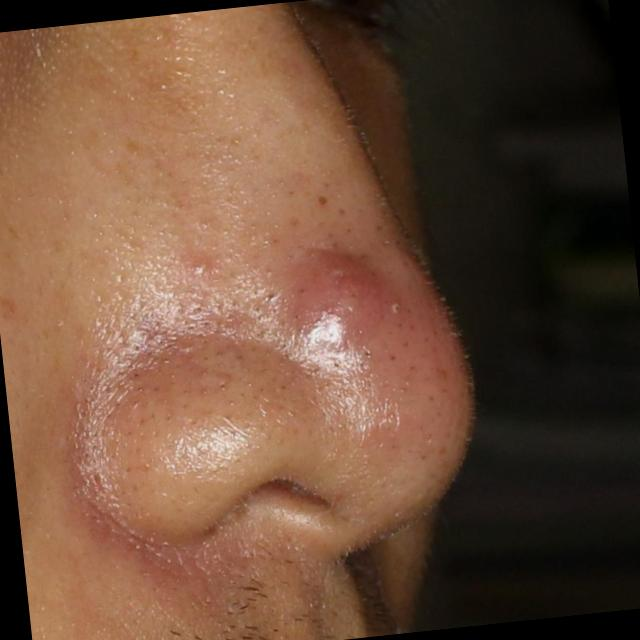blackhead: (316, 192, 330, 208), (387, 350, 399, 364), (336, 204, 348, 217), (216, 381, 229, 393), (233, 352, 246, 364), (362, 347, 373, 361), (331, 359, 342, 371), (264, 292, 277, 302), (250, 304, 262, 314), (151, 384, 162, 394), (427, 393, 437, 404), (148, 410, 158, 420), (189, 417, 199, 426), (133, 342, 142, 352), (394, 304, 402, 315), (136, 384, 144, 394), (228, 398, 236, 408), (132, 370, 140, 379), (180, 403, 188, 411), (202, 354, 210, 362)
nodule: (282, 243, 391, 355)
